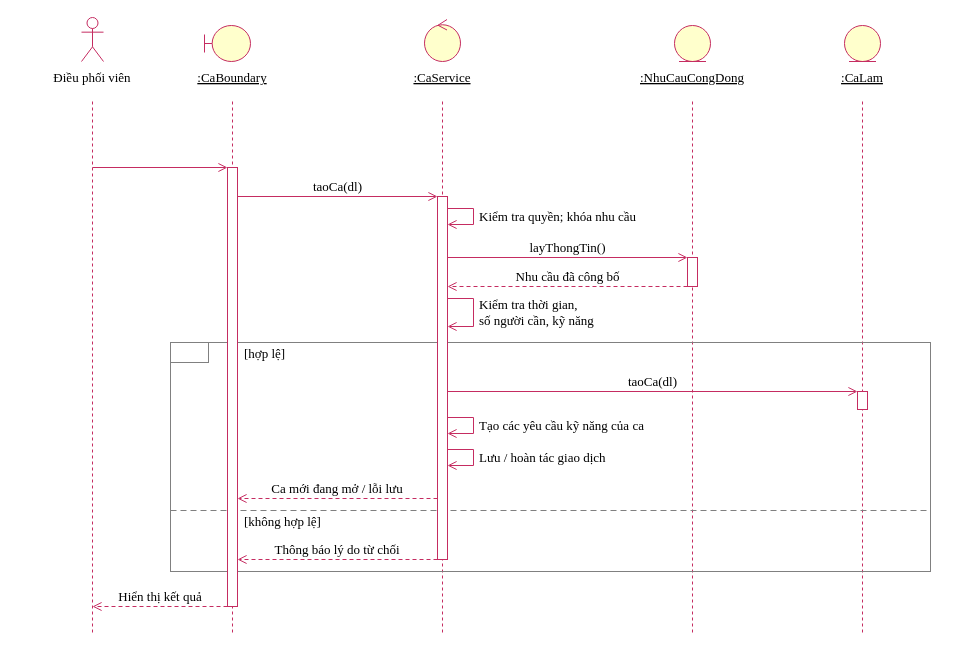
This 954x651 diagram has some shape labels left out. Each missing label, with the box of its shape:
alt: (170, 342, 208, 362)
Nhập ca và kỹ năng, nhấn Tạo ca: (95, 134, 224, 164)
